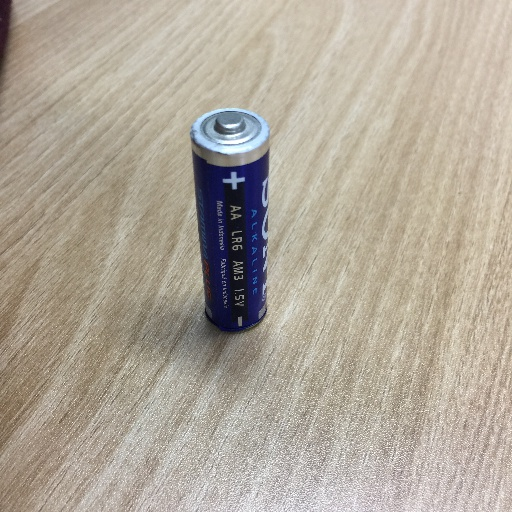Battery_0: (183, 100, 283, 338)
